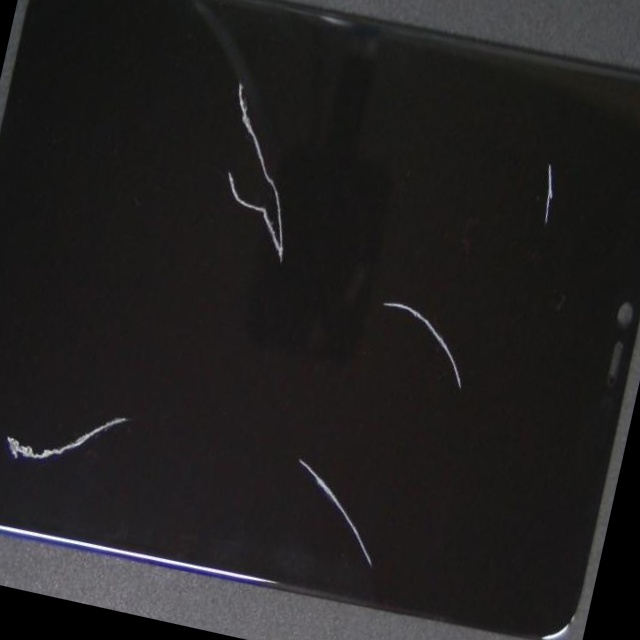scratch: (184, 280, 625, 640), (162, 43, 420, 236)
